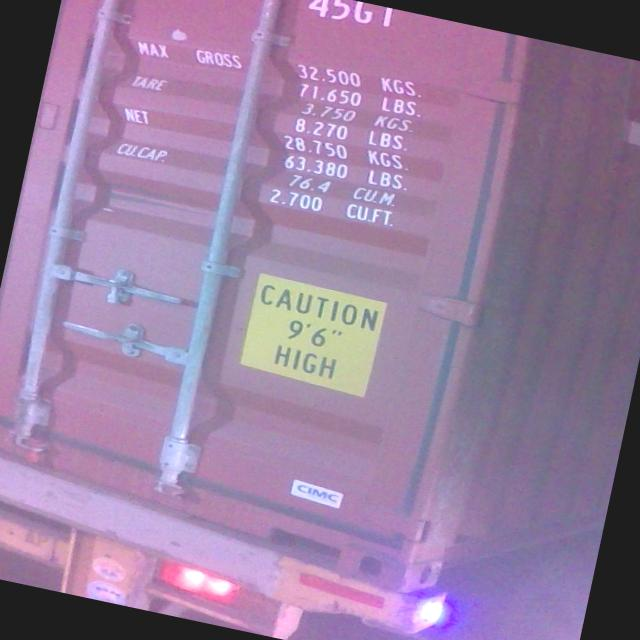seal: (96, 270, 125, 308), (18, 434, 48, 468)
